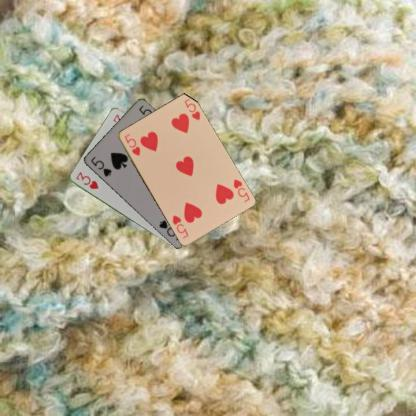3h: (74, 169, 100, 191)
5h: (230, 176, 250, 204), (122, 131, 141, 157)
5s: (88, 154, 112, 178)
